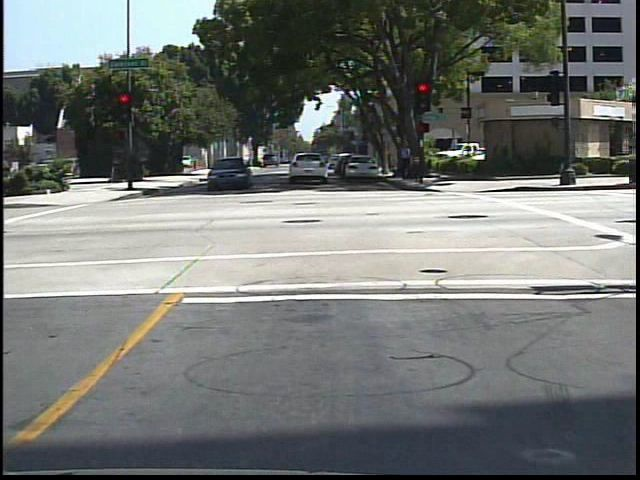person: (395, 139, 416, 182)
